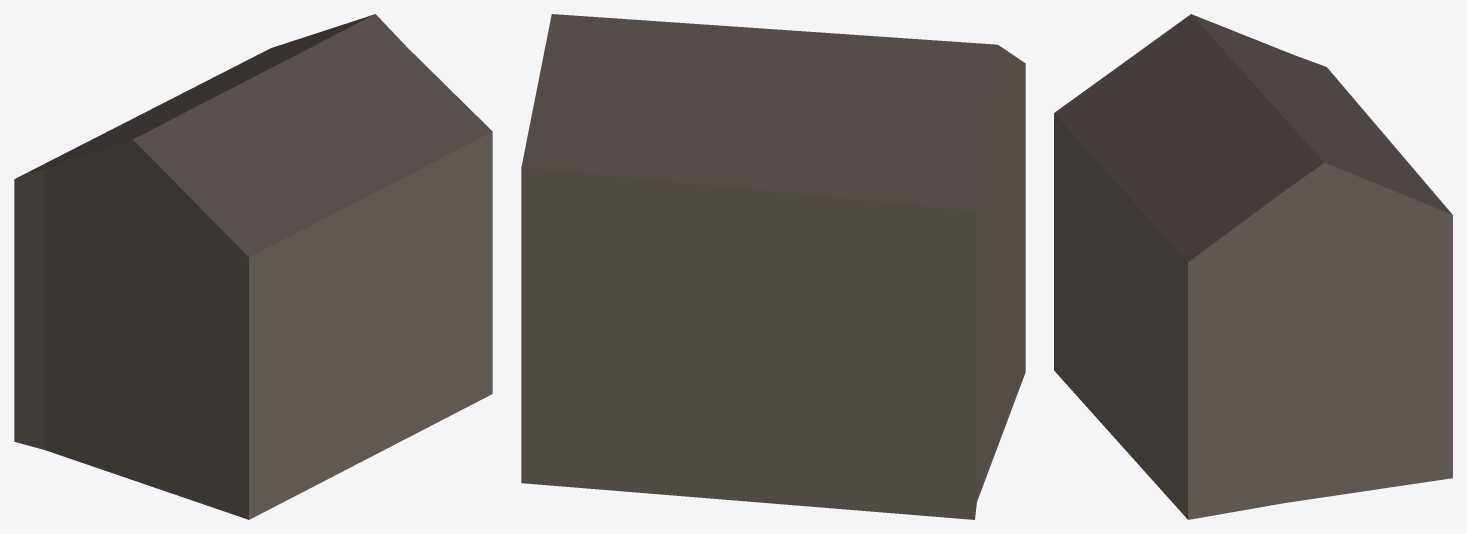
The picture shows the model from 3 angles, left to right: view 1: azimuth 30°, elevation 25°; view 2: azimuth 150°, elevation 25°; view 3: azimuth 270°, elevation 25°; orthographic projection. The views are drawn at different scales.
Visible parts, largest first — view 1: HP-w1198645106; view 2: HP-w1198645106; view 3: HP-w1198645106.
Part boxes in pixels (box(x1,y1,x2,y2)): HP-w1198645106: box(14, 14, 492, 519); HP-w1198645106: box(521, 14, 1025, 519); HP-w1198645106: box(1054, 14, 1452, 519).
Size of the model in its own units: 9.76 by 7.79 by 8.42.
